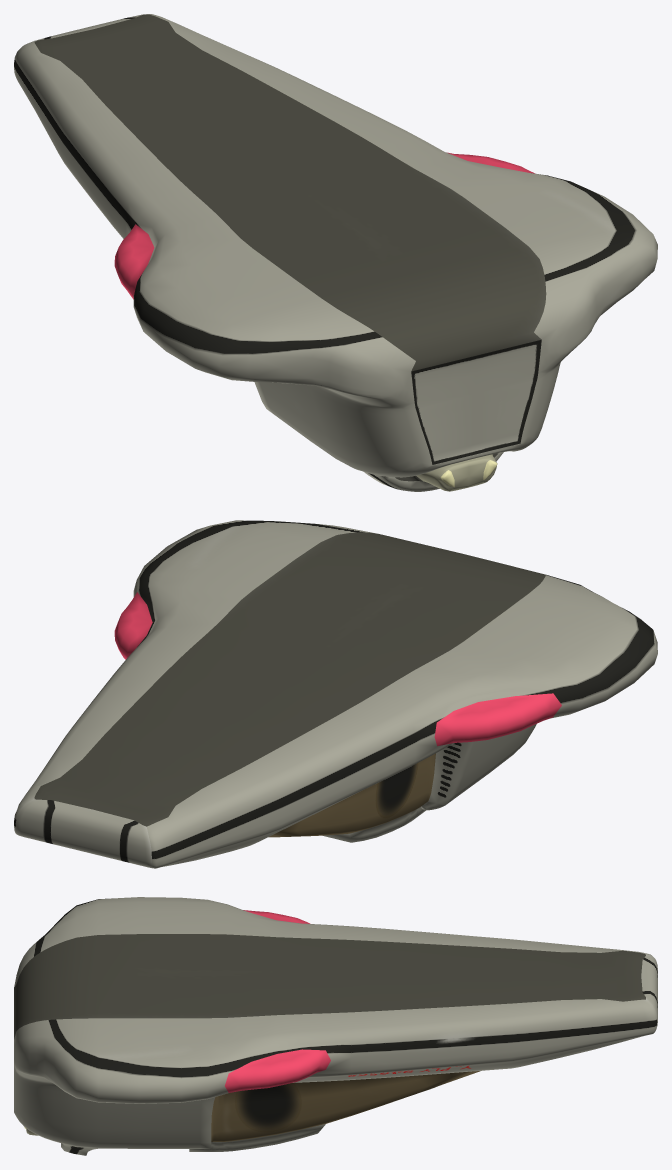
Rendered from spaceship_v2_1.fbx.
3 renders of one model, top to bottom at view 1: azimuth 30°, elevation 25°; view 2: azimuth 150°, elevation 25°; view 3: azimuth 270°, elevation 25°, orthographic. The views are drawn at different scales.
Parts seen in each view (by area): view 1: Plane; view 2: Plane; view 3: Plane.
Boxes of the visible parts, x1,y1,x2,y2 form: Plane: (14,14,657,491); Plane: (14,520,657,868); Plane: (14,897,657,1155).
Size of the model in its own units: 8.98 by 3.73 by 12.87.
Materials: 1 (1 with a texture image).
